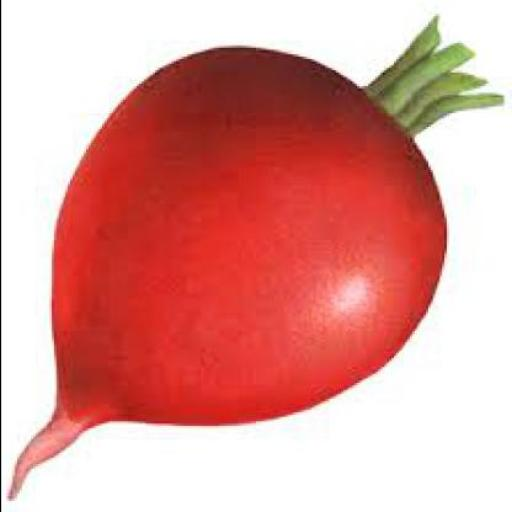biodegradable: (7, 18, 507, 501)
